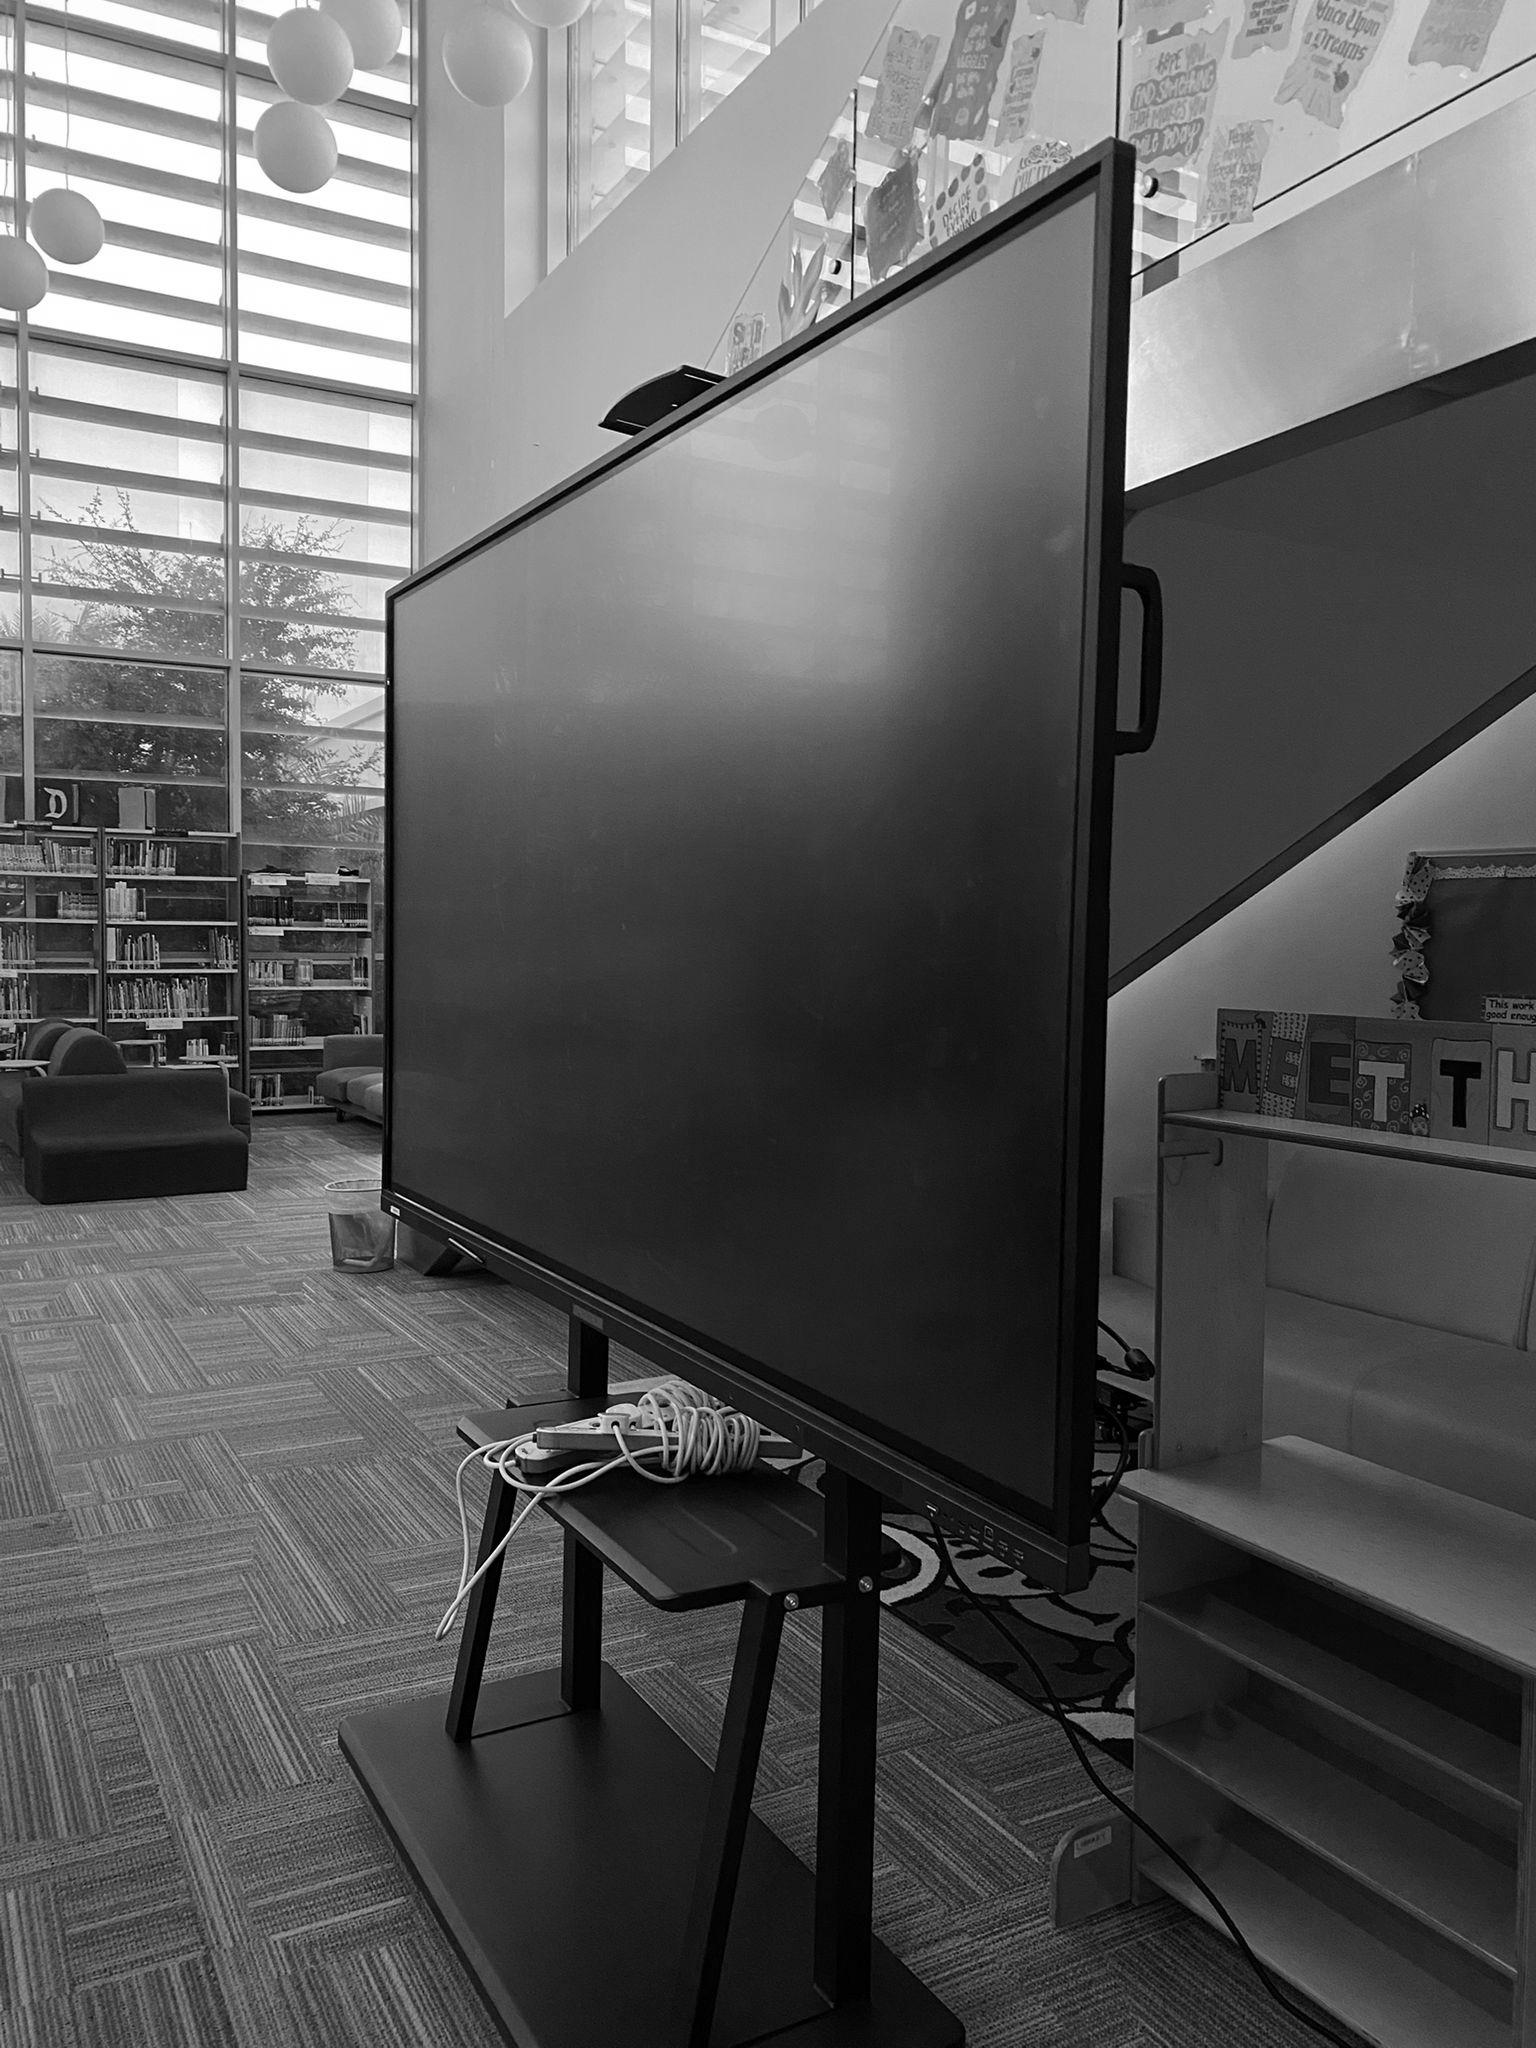Couch: (1267, 1148, 1534, 1516), (0, 1019, 252, 1201), (315, 1035, 381, 1121)
Tv: (389, 152, 1128, 1567)
